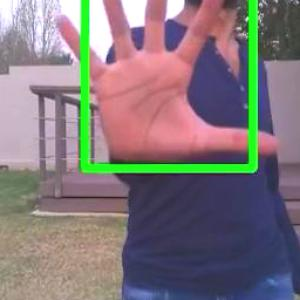follow_hand: (50, 0, 282, 170)
